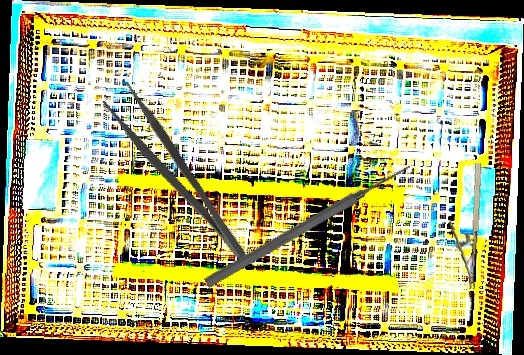Dressing Forceps: (99, 79, 253, 275)
Needle Holder: (443, 160, 486, 290)
Pusher: (202, 159, 415, 291)
